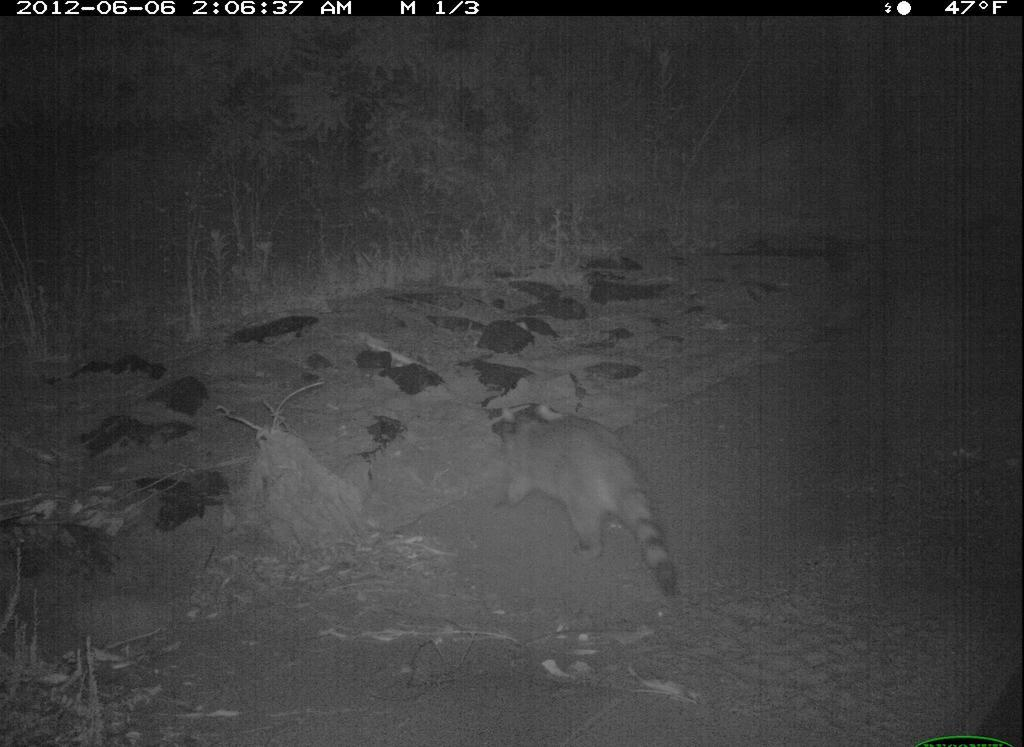raccoon: (487, 395, 688, 596)
